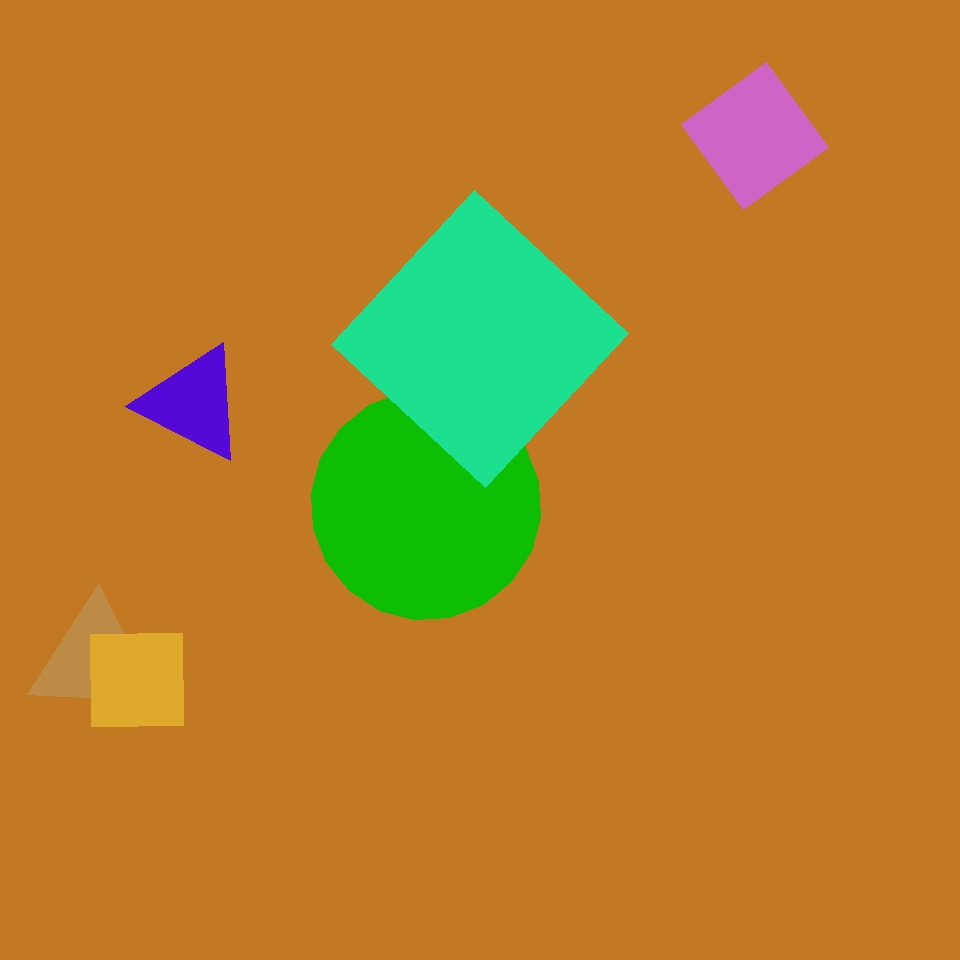circle: (30, 602, 160, 718), (140, 344, 246, 462)
square: (332, 191, 628, 488), (682, 62, 828, 210), (90, 634, 184, 726)
triangle: (312, 390, 540, 620)
